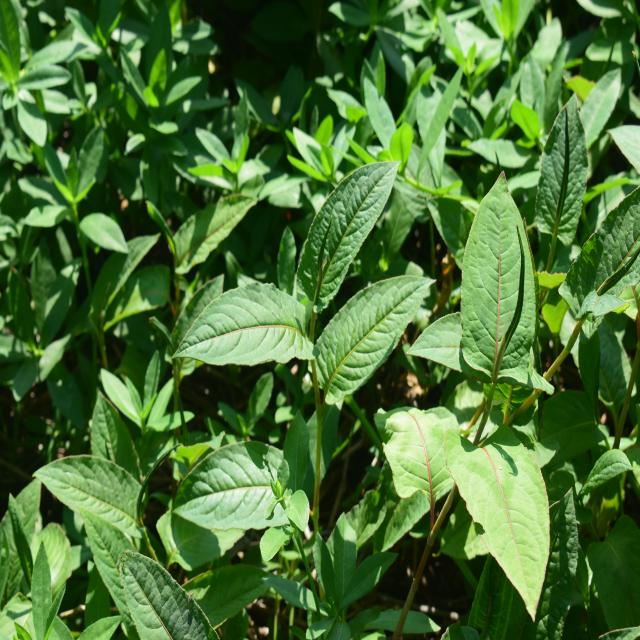Chinese_knotweed: (402, 161, 598, 618), (192, 147, 421, 400)
